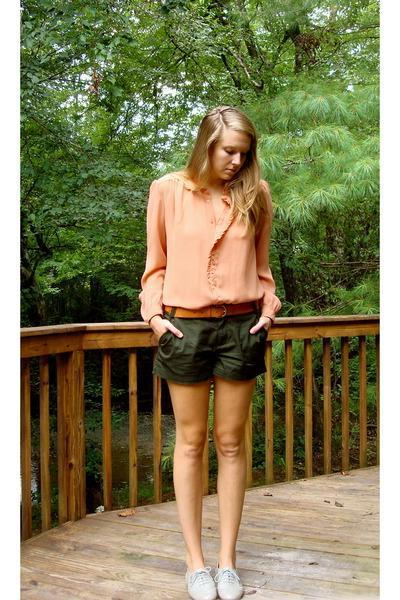Shorts: (146, 300, 271, 382)
long sleeve shirt: (137, 175, 277, 330)
